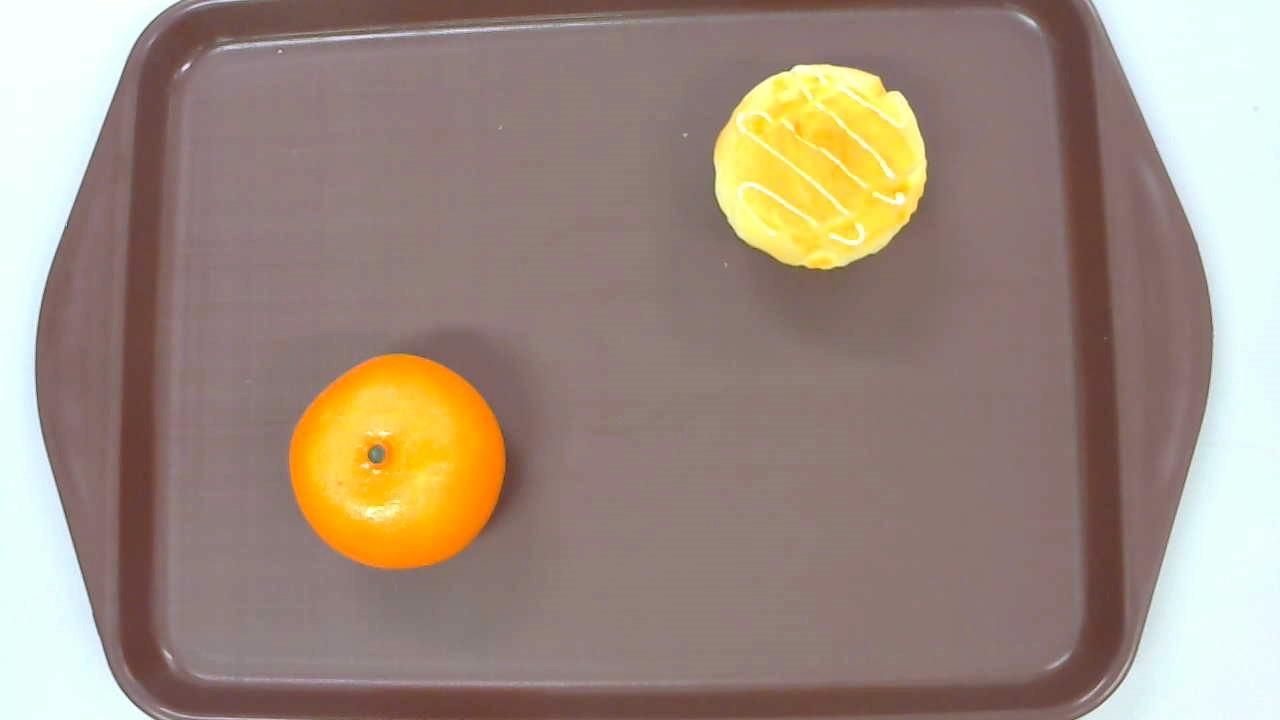cupcake: (712, 63, 928, 270)
orange: (287, 353, 505, 569)
